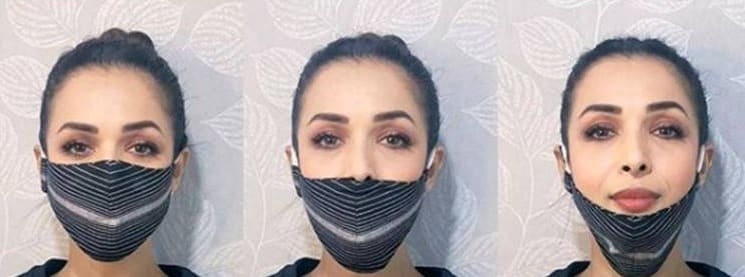mask_weared_incorrect: (577, 85, 696, 277), (304, 85, 427, 270)
with_mask: (54, 86, 170, 260)
